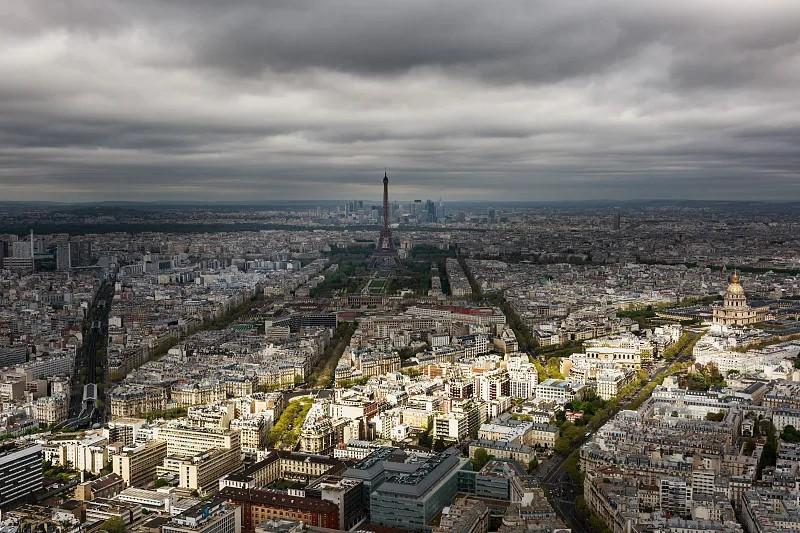Eiffel: (366, 167, 402, 277)
